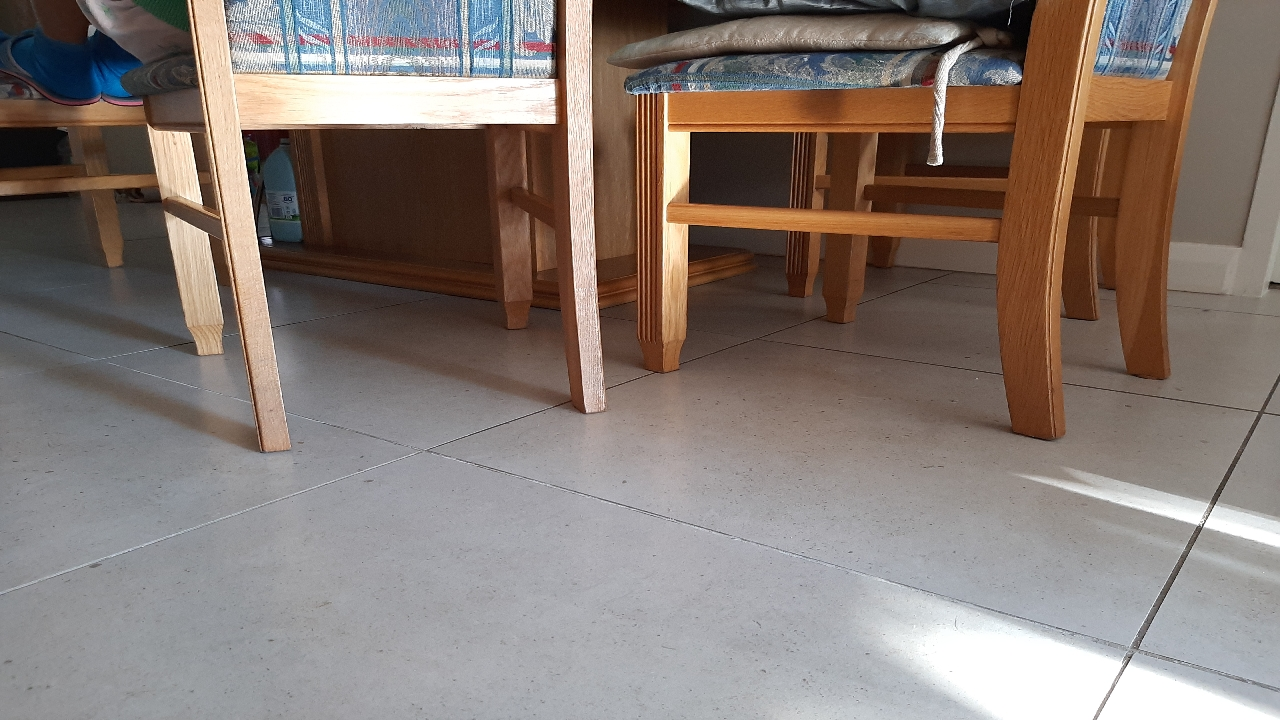chair: (72, 239, 601, 508), (617, 239, 1227, 460)
